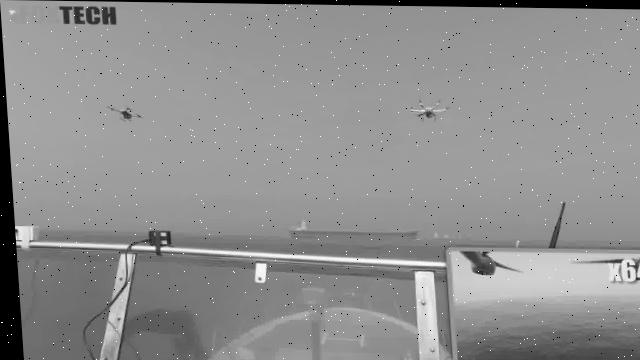drone: (403, 86, 454, 124), (103, 98, 142, 125)
